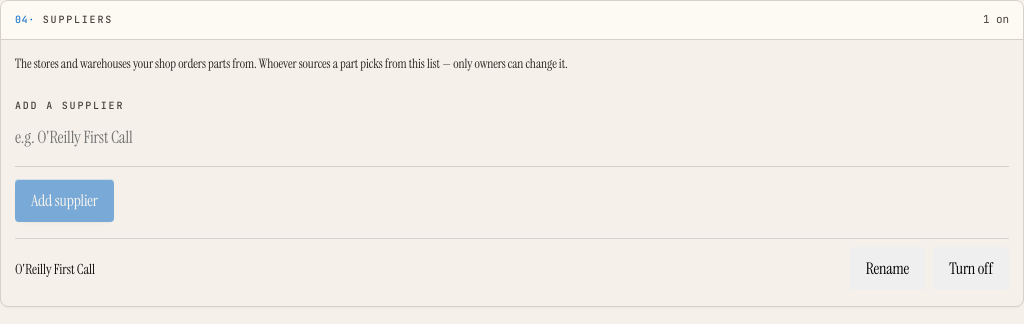
it: SuppliersSection › renames a supplier without touching its enabled state
The width and height of the screenshot is (1024, 324).
Click the button "Rename" at (887, 269), box [850,247,925,290]
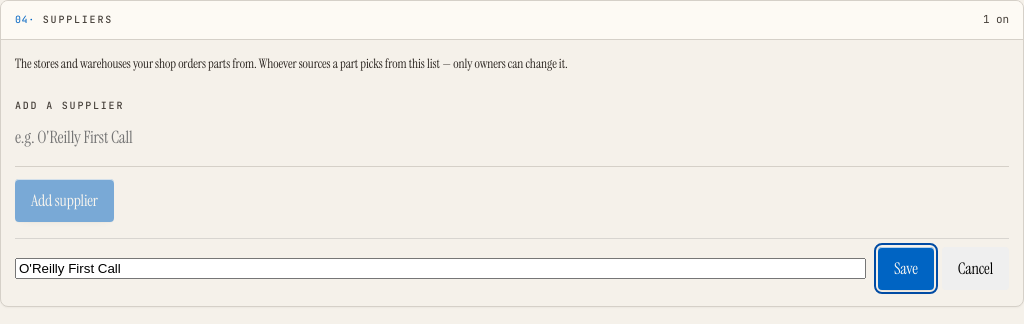
Replace the text in the field named "Rename O'Reilly First Call" with "O'Reilly" at (440, 269), box [15,258,866,279]
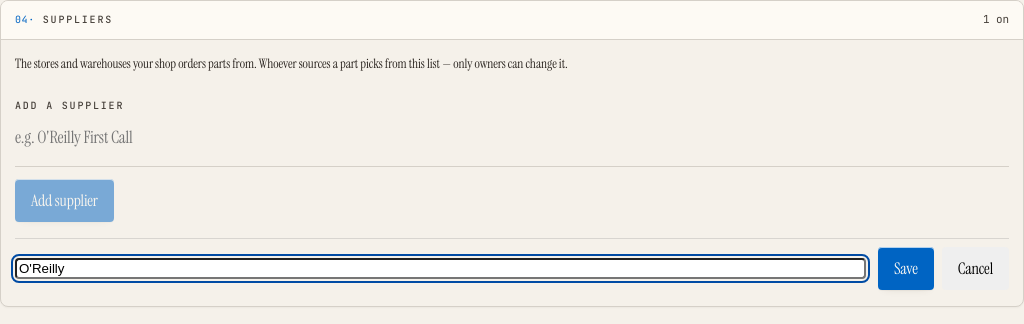
Click the button "Save" at (906, 269), box [878,247,934,290]
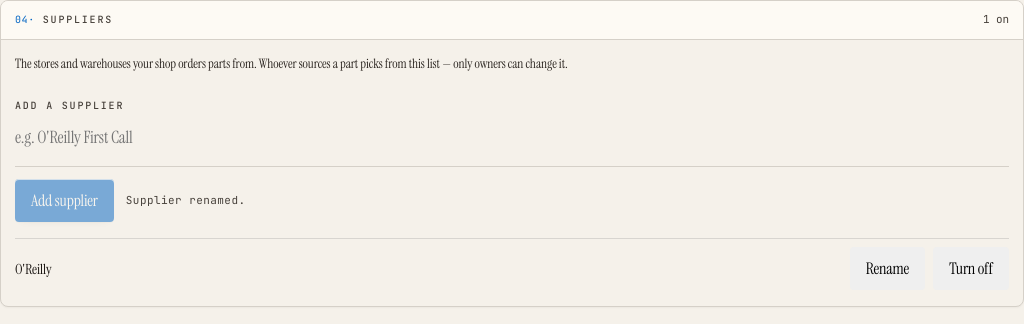
Expected: the text "Supplier renamed." is shown, [126,193,246,208]
Expected: the text "O'Reilly" is shown, [15,259,52,279]
